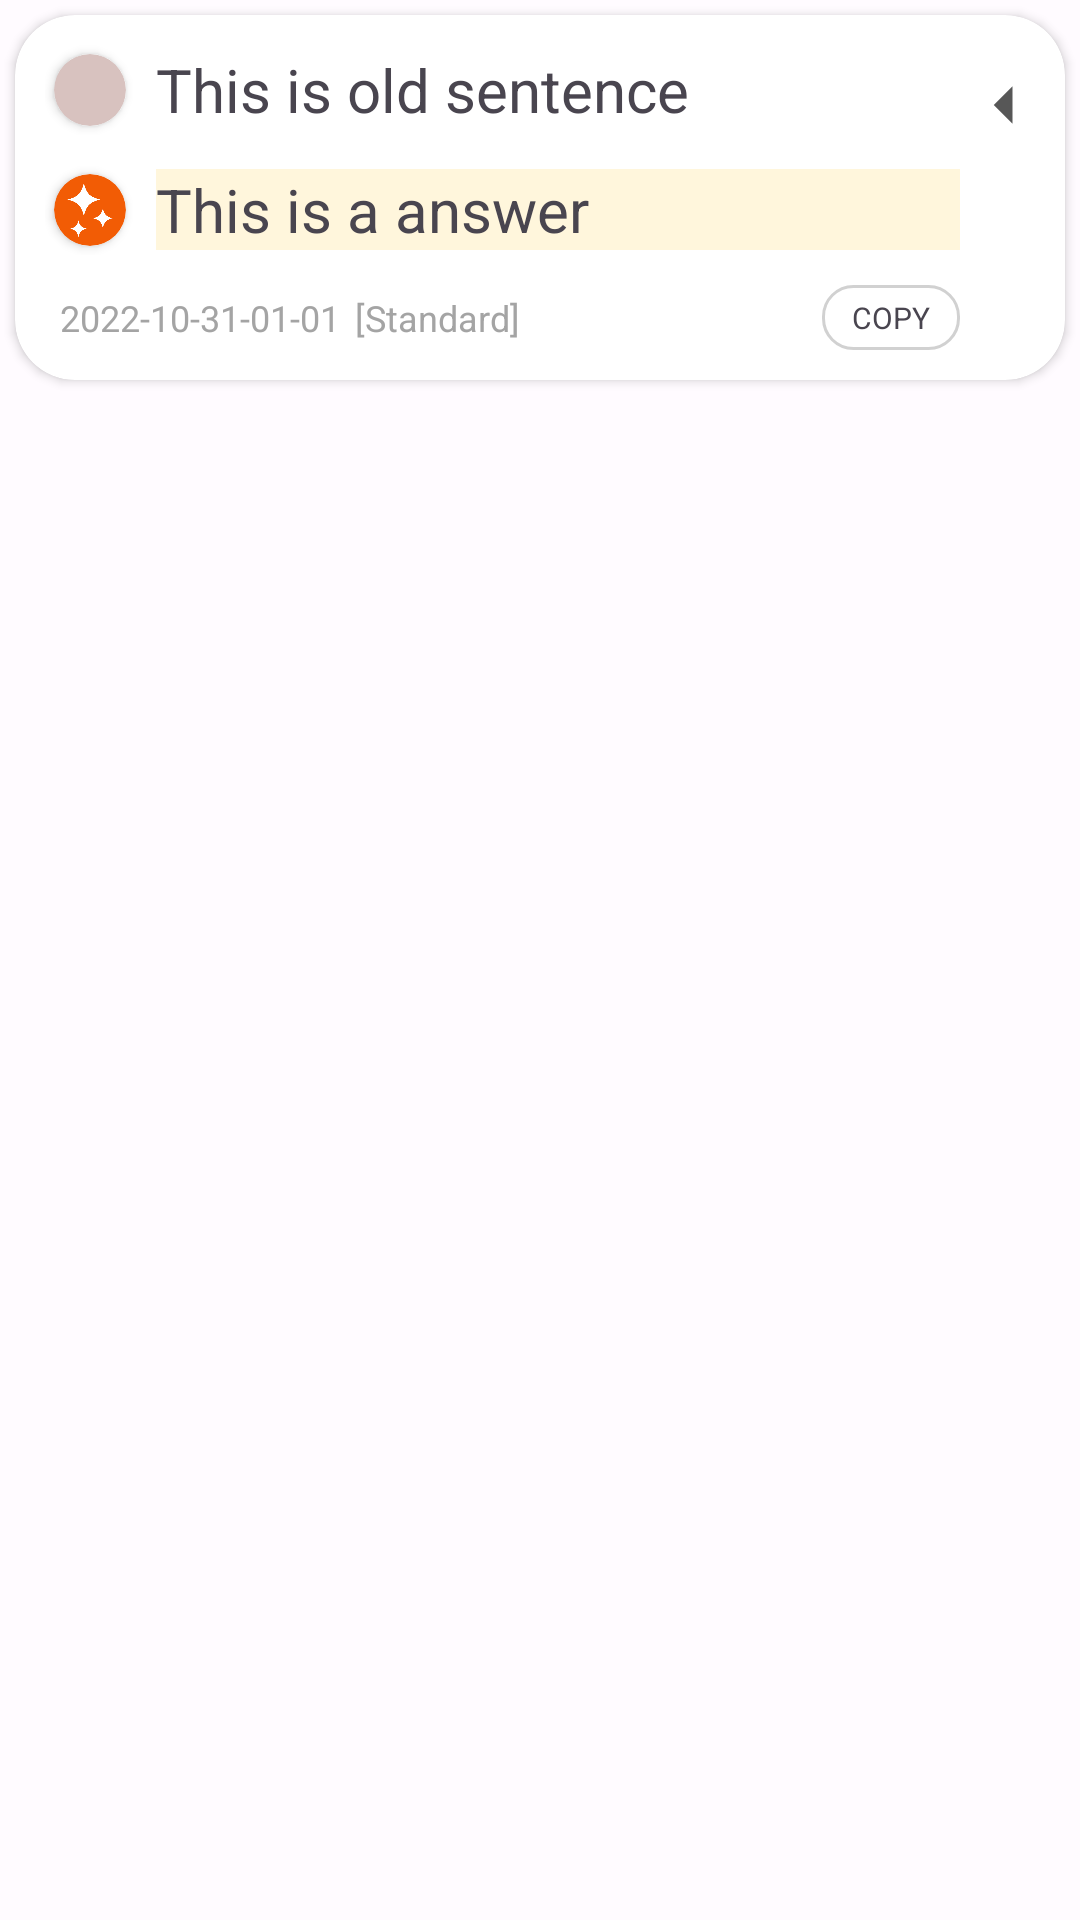

Icon bounding boxes for this 1080 x 1920 phone screenshot, format (x1,y1,x2,y2):
arrow left: (994,86,1013,124)
shine: (54,174,126,246)
